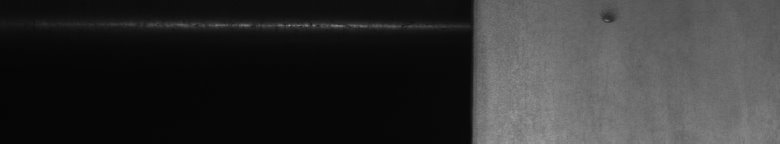fi: (596, 8, 617, 28)
